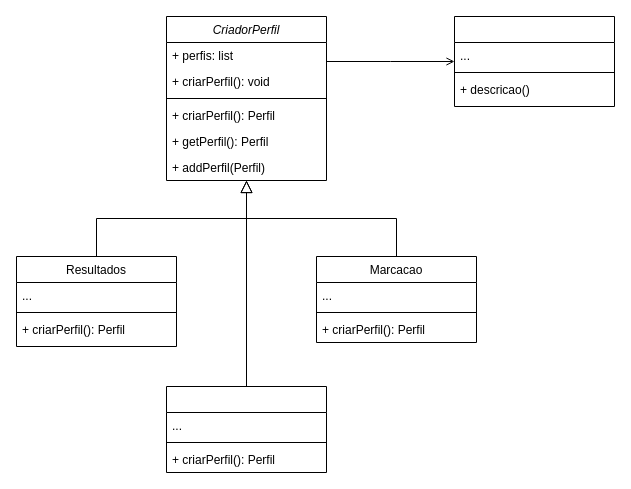
Image size: 631x489. Some labels were removed from this diagram. Here are the shapes that lost their labels. From the top down, the box of each, then its label:
(454, 16, 614, 106): Perfil
(166, 386, 326, 472): Exames
